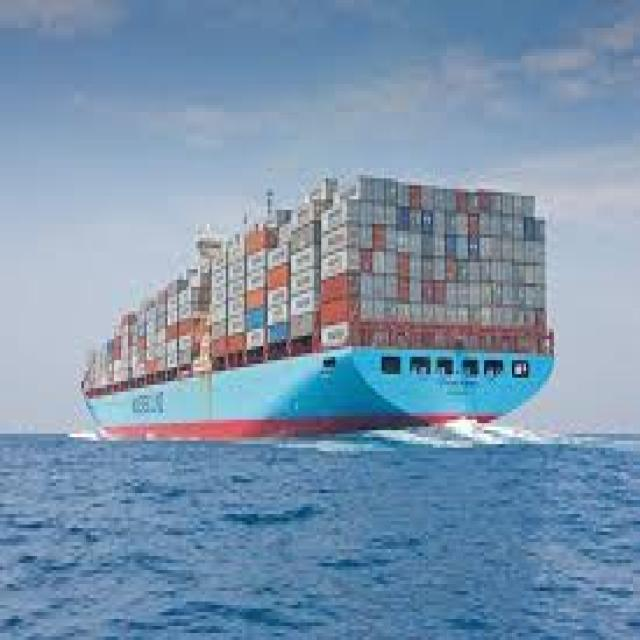cargoship: (82, 166, 558, 444)
